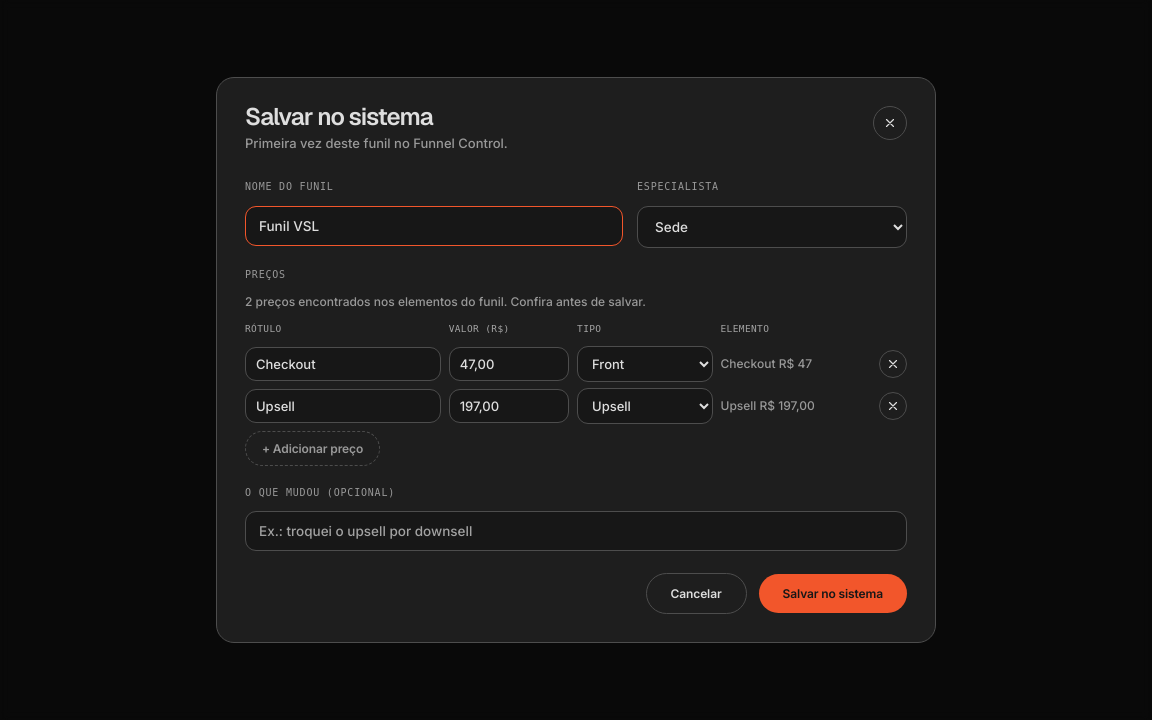
Scenario: SaveModal › valor inválido é barrado com mensagem
Replace the text in the field named "Valor do preço 1" with "quarenta" at (509, 364), box [449,347,569,381]
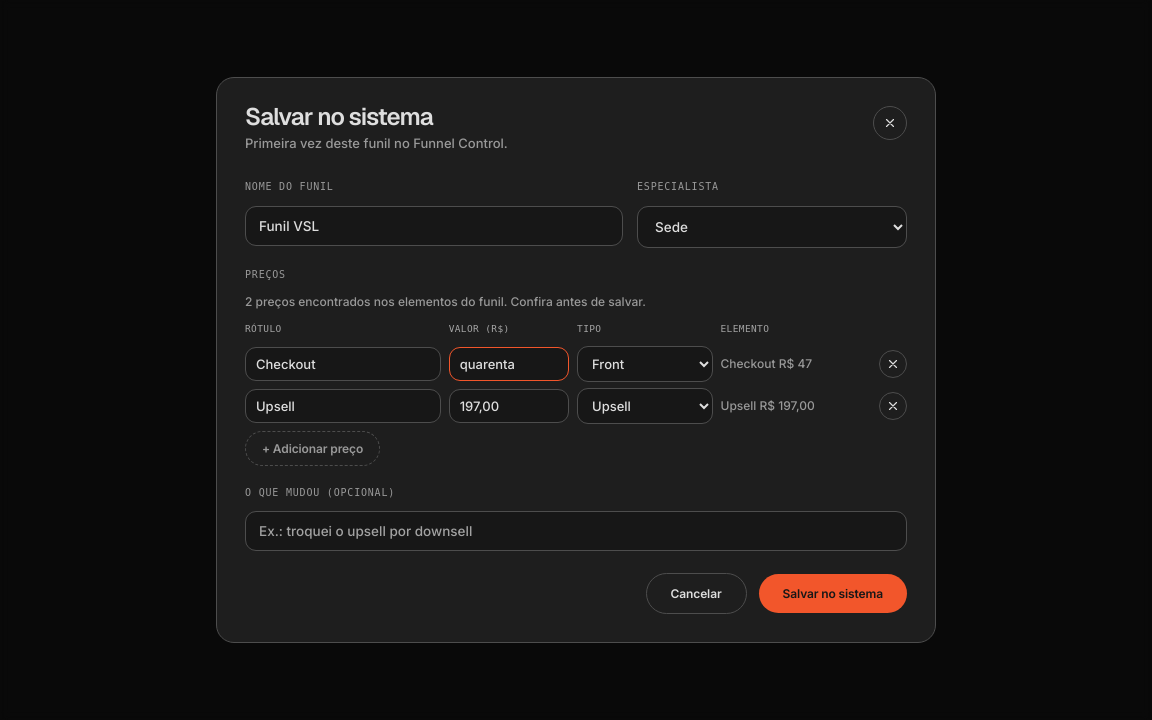
Click the button "Salvar no sistema" at (833, 594), box [759,574,907,613]
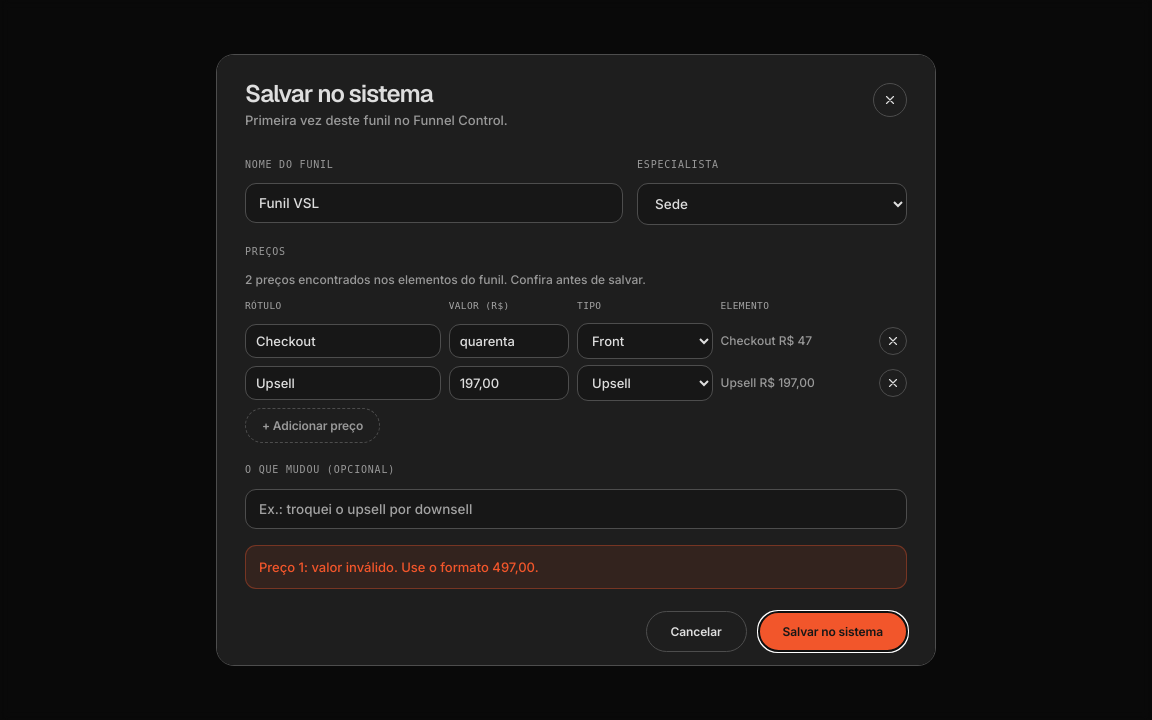
Expected: the message shows "Preço 1: valor inválido", [259,559,539,575]
